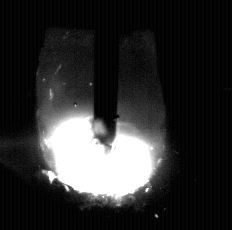arame: (94, 0, 118, 148)
poca: (38, 0, 163, 230)
